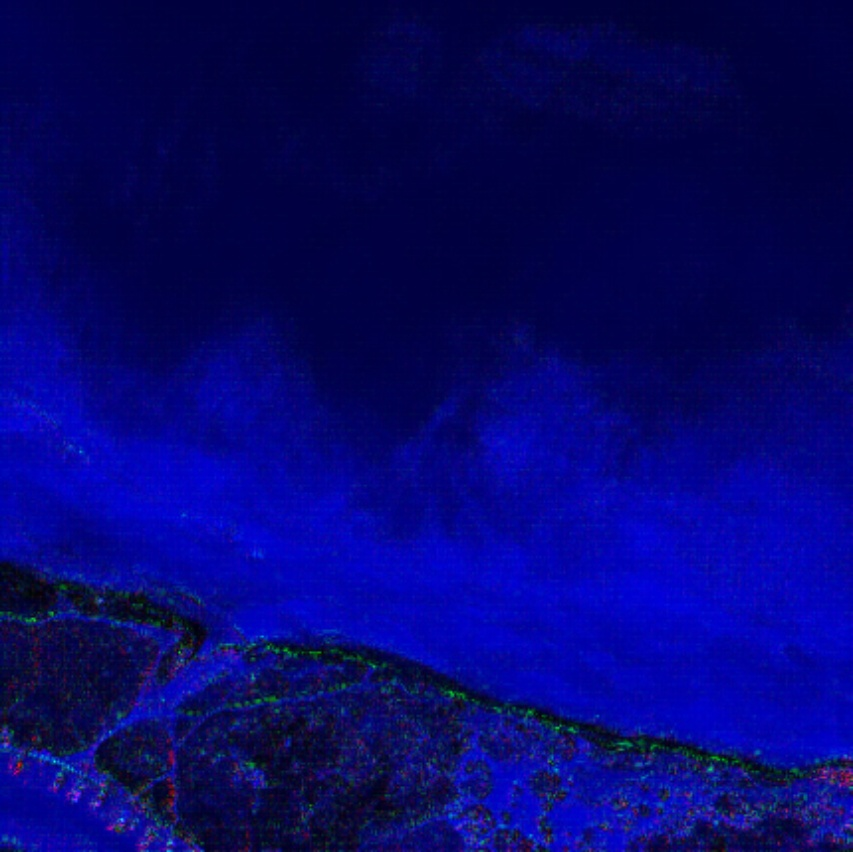rip_current: (244, 286, 498, 566)
